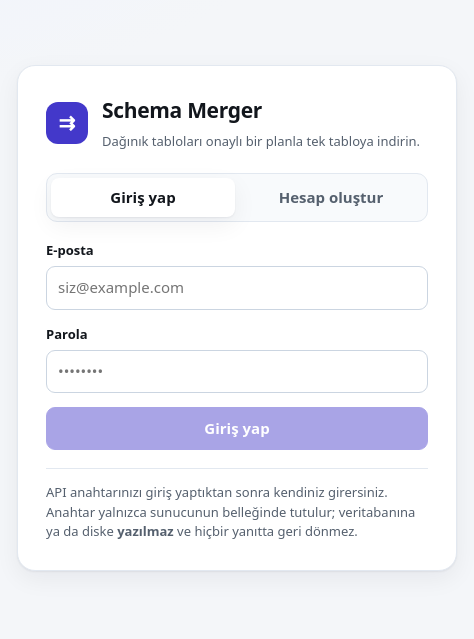
Test: accounts › reports a refused sign-in in the backend's own words
In the field labelled "E-posta": (237, 288) x1=46 y1=266 x2=428 y2=310, type "kullanici@example.com"
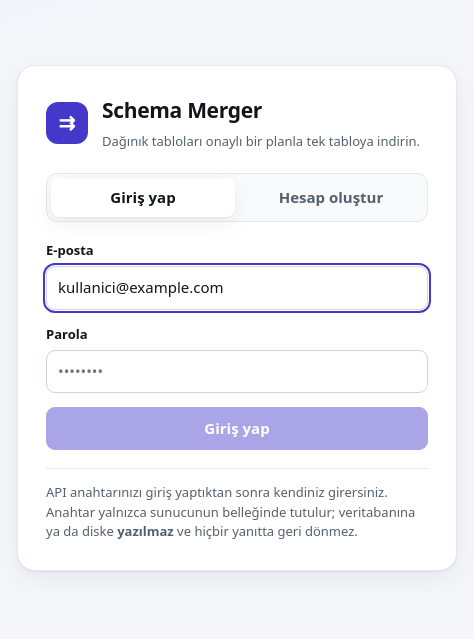
In the password field labelled "Parola": (237, 371) x1=46 y1=350 x2=428 y2=393, type "yanlis"
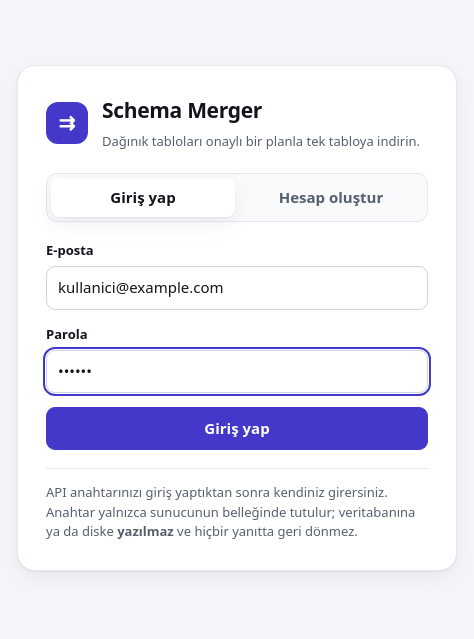
Click the button "Giriş yap": (237, 429) x1=46 y1=407 x2=428 y2=450
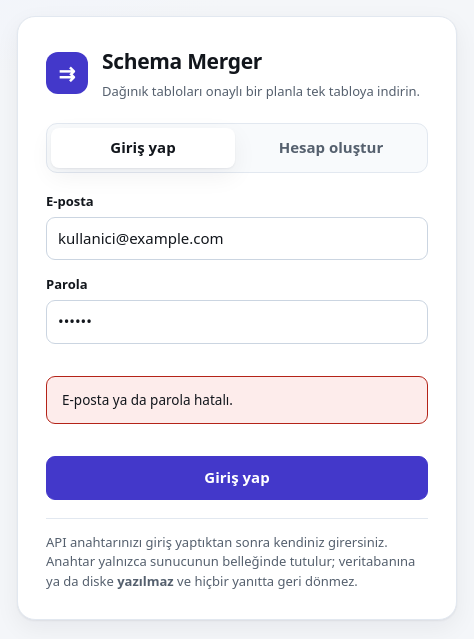
Check: the message reads "E-posta ya da parola hatalı.", box x1=62 y1=390 x2=233 y2=408
